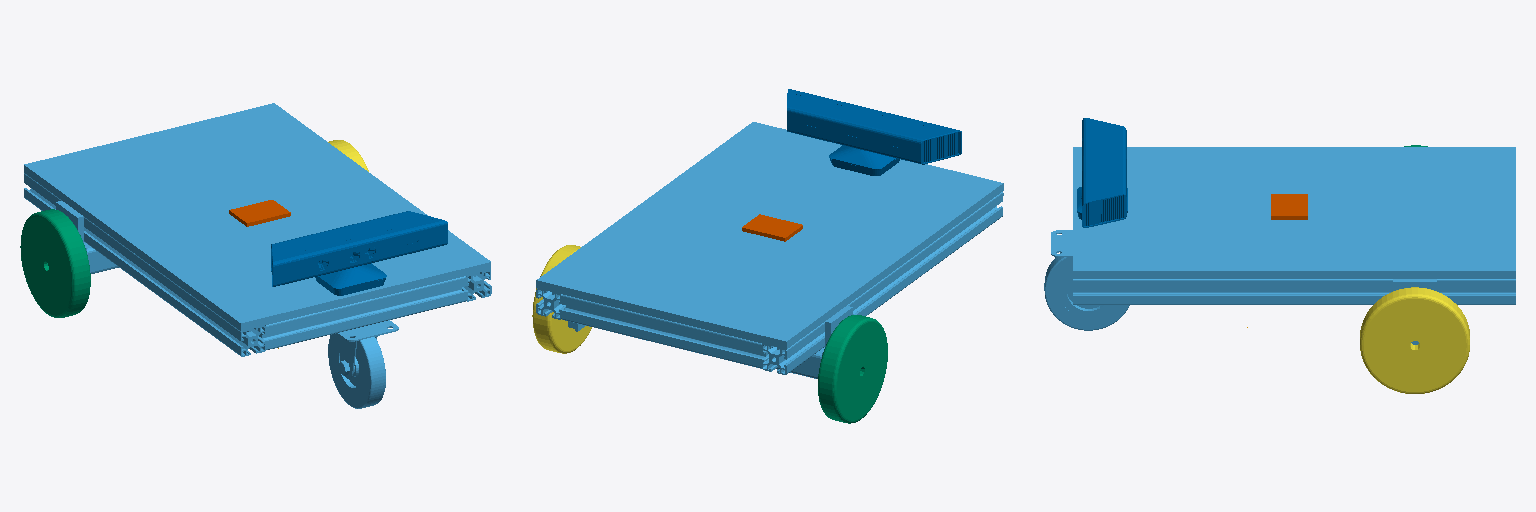
The robot description file, URDF, robot "mecanum_wheeled_robot":
<?xml version="1.0" ?>
<robot name="mecanum_wheeled_robot" >
  <!-- Wheels -->
  <!-- in kg-->
  <!-- Defining the colors used in this robot -->
  <material name="Black">
    <color rgba="0.0 0.0 0.0 1.0"/>
  </material>
  <material name="Red">
    <color rgba="0.8 0.0 0.0 1.0"/>
  </material>
  <material name="White">
    <color rgba="1.0 1.0 1.0 1.0"/>
  </material>
  <material name="Blue">
    <color rgba="0.0 0.0 0.8 1.0"/>
  </material>
  <material name="base">
   <texture filename="package://thedush_robots/texture/texture5.jpg"/>
  </material>
   <material name="Wheels1">
   <texture filename="package://thedush_robots/texture/texture6.jpg"/>
  </material>

  <material name="texture1">
   <texture filename="package://thedush_robots/texture/texture4.jpg"/>
  </material>
  <!-- PROPERTY LIST -->
  <!--All units in m-kg-s-radians unit system -->
  <!-- Main body radius and height -->
  <!-- Main Body Cylinder base   -->
  <!-- in kg-->
  <!-- caster wheel radius and height -->
  <!-- caster wheel mass -->
  <!-- in kg-->
  <!-- caster wheel radius and height -->
  <!-- caster wheel mass -->
  <!-- in kg-->
  <!-- Wheels -->
 
 
  <!-- in kg-->
  <!-- Hokuyo Laser scanner -->
  <!-- Macro for calculating inertia of cylinder -->
  <!-- BASE-FOOTPRINT -->
  <!-- base_footprint is a fictitious link(frame) that is on the ground right below base_link origin -->
  <link name="base_footprint">
    <inertial>
      <mass value="0.0001"/>
      <origin xyz="0 0 0"/>
      <inertia ixx="0.0001" ixy="0.0" ixz="0.0" iyy="0.0001" iyz="0.0" izz="0.0001"/>
    </inertial>
    <visual>
      <origin rpy="0 0 0" xyz="0 0 0"/>
      <geometry>
        <box size="0.001 0.001 0.001"/>
      </geometry>
    </visual>
  </link>
  <gazebo reference="base_footprint">
    <turnGravityOff>false</turnGravityOff>
  </gazebo>
  <joint name="base_footprint_joint" type="fixed">
    <origin rpy="0 0 0" xyz="0 0 0.145"/>
    <parent link="base_footprint"/>
    <child link="base_link"/>
  </joint>
  <!-- BASE-LINK -->
  <!--Actual body/chassis of the robot-->
  <link name="base_link">
    <inertial>
      <mass value="5"/>
      <origin xyz="0 0 0"/>
      <!--The 3x3 rotational inertia matrix. -->
      <inertia ixx="0.0282916666667" ixy="0" ixz="0" iyy="0.0282916666667" iyz="0" izz="0.05625"/>
    </inertial>
    <visual>
      <origin rpy="0 3.14 0" xyz="0.295 -0.3 0.5"/>
      <geometry>
       <mesh
          filename="package://thedush_robots/meshes/cleanbot/base.STL" />
      </geometry>
      <material name="base"/>
    </visual>
    <collision>
      <origin rpy="0 3.14 0" xyz="0.295 -0.3 0.6"/>
      <geometry>
        <mesh
          filename="package://thedush_robots/meshes/cleanbot/base.STL" />
      </geometry>
    </collision>
  </link>
  <gazebo reference="base_link">
    <material>Gazebo/White</material>
    <turnGravityOff>false</turnGravityOff>
  </gazebo>
  <!--fb : front, back ; lr: left, right -->
 



   <link name="back_right_wheel">
    <visual>
      <origin rpy="1.57079632679 0  1.57079632679 " xyz="-0.03 -0.075 -0.075"/>
      <geometry>
        <mesh
          filename="package://thedush_robots/meshes/cleanbot/wheel.STL"/>
      </geometry>
      <material name="Wheels1"/>
    </visual>
    <collision>
      <origin rpy="1.57079632679 0 1.57079632679 " xyz="0 0 0"/>
      <geometry>
        <mesh
          filename="package://thedush_robots/meshes/cleanbot/wheel.STL" />
      </geometry>
    </collision>
    <inertial>
      <mass value="2.5"/>
      <origin xyz="0 0 0"/>
      <inertia ixx="0.00108333333333" ixy="0" ixz="0" iyy="0.00108333333333" iyz="0" izz="0.002"/>
    </inertial>
  </link>



 <gazebo reference="back_right_wheel">
    <mu1 value="1.0"/>
    <mu2 value="1.0"/>
    <kp value="10000000.0"/>
    <kd value="1.0"/>
    <fdir1 value="1 0 0"/>
    <material>Gazebo/Grey</material>
    <turnGravityOff>false</turnGravityOff>
  </gazebo>


  <joint name="back_right_wheel_joint" type="continuous">
    <parent link="base_link"/>
    <child link="back_right_wheel"/>
    <origin rpy="0 0 0" xyz="-0.208083610535 0.228523135185 -0.056"/>
    <axis rpy="0  0" xyz="1 0 0"/>
    <limit effort="100" velocity="100"/>
    <joint_properties damping="0.0" friction="0.0"/>
  </joint>

  <!-- Transmission is important to link the joints and the controller -->
 

 <transmission name="back_right_wheel_joint_trans">
    <type>transmission_interface/SimpleTransmission</type>
    <joint name="back_right_wheel_joint"/>
    <actuator name="back_right_wheel_joint_motor">
      <hardwareInterface>EffortJointInterface</hardwareInterface>
      <mechanicalReduction>1</mechanicalReduction>
    </actuator>
  </transmission>


  <!--fb : front, back ; lr: left, right -->
  

   <link name="back_left_wheel">
    <visual>
      <origin rpy="1.57079632679 0  -1.57079632679 " xyz="0 0.075 -0.075"/>
      <geometry>
        <mesh
          filename="package://thedush_robots/meshes/cleanbot/wheel.STL" />
      </geometry>
      <material name="Wheels1"/>
    </visual>
    <collision>
      <origin rpy="1.57079632679 0 -1.57079632679 " xyz="0 0 0"/>
      <geometry>
        <mesh
          filename="package://thedush_robots/meshes/cleanbot/wheel.STL" />
      </geometry>
    </collision>
    <inertial>
      <mass value="2.5"/>
      <origin xyz="0 0 0"/>
      <inertia ixx="0.00108333333333" ixy="0" ixz="0" iyy="0.00108333333333" iyz="0" izz="0.002"/>
    </inertial>
  </link>



  <gazebo reference="back_left_wheel">
    <mu1 value="1.0"/>
    <mu2 value="1.0"/>
    <kp value="10000000.0"/>
    <kd value="1.0"/>
    <fdir1 value="1 0 0"/>
    <material>Gazebo/Grey</material>
    <turnGravityOff>false</turnGravityOff>
  </gazebo>


  <joint name="back_left_wheel_joint" type="continuous">
    <parent link="base_link"/>
    <child link="back_left_wheel"/>
    <origin rpy="0 0 0" xyz="0.248192135692 0.227883039474 -0.056"/>
    <axis rpy="0  0" xyz="1 0 0"/>
    <limit effort="100" velocity="100"/>
    <joint_properties damping="0.0" friction="0.0"/>
  </joint>

  <!-- Transmission is important to link the joints and the controller -->


    <transmission name="back_left_wheel_joint_trans">
    <type>transmission_interface/SimpleTransmission</type>
    <joint name="back_left_wheel_joint"/>
    <actuator name="back_left_wheel_joint_motor">
      <hardwareInterface>EffortJointInterface</hardwareInterface>
      <mechanicalReduction>1</mechanicalReduction>
    </actuator>
  </transmission>

  
 


 
  <link name="kinect_link">
    <visual>
      <origin rpy="1.57 0 0" xyz="-0.14 0.035 -0.05"/>
      <geometry>
        <mesh
          filename="package://thedush_robots/meshes/cleanbot/kinect.STL"/>
    
       <!--  <box size="0.05 0.05 0.05"/> -->
      </geometry>
      <material name="Grey"/>
    </visual>
  </link>
  <joint name="kinect_joint" type="fixed">
    <origin rpy="0 0 0" xyz="0.00128984451294 -0.19538221359 0.084095378876"/>
    <parent link="base_link"/>
    <child link="kinect_link"/>
  </joint>

<link name="imu_link">
    <visual>
      <origin rpy="0 0 -1.57079632679" xyz="0 0 0"/>
      <geometry>
        
         <box size="0.05 0.07 0.01"/> 
      </geometry>
      <material name="texture1"/>
    </visual>
  </link>
  <joint name="imu_joint" type="fixed">
    <origin rpy="0 0 3.14" xyz="0.00416427850723 0.0573545172811 0.035139584541"/>
    <parent link="base_link"/>
    <child link="imu_link"/>
  </joint>

  <gazebo reference="kinect_link">
    <material>Gazebo/Grey</material>
    <turnGravityOff>false</turnGravityOff>
    <sensor name="head_hokuyo_sensor" type="ray">
      <pose>0.025 0 0 0 0 0</pose>
      <visualize>false</visualize>
      <update_rate>40</update_rate>
      <ray>
        <scan>
          <horizontal>
            <samples>720</samples>
            <resolution>1</resolution>
            <min_angle>0</min_angle>
            <max_angle>-3.14570796</max_angle>
          </horizontal>
        </scan>
        <range>
          <min>0.10</min>
          <max>10.0</max>
          <resolution>0.001</resolution>
        </range>
      </ray>
      <plugin filename="libgazebo_ros_laser.so" name="gazebo_ros_head_hokuyo_controller">
        <topicName>/scan</topicName>
        <frameName>kinect_link</frameName>
      </plugin>
    </sensor>
  </gazebo>
<gazebo>
<!-- <plugin name="skid_steer_drive_controller" filename="libgazebo_ros_skid_steer_drive.so">
     
        <updateRate>100.0</updateRate>
        <leftFrontJoint>front_left_wheel_joint</leftFrontJoint>  
        <rightFrontJoint>front_right_wheel_joint</rightFrontJoint>
        <leftRearJoint>back_left_wheel_joint</leftRearJoint>
        <rightRearJoint>back_right_wheel_joint</rightRearJoint>
        <wheelSeparation>0.26</wheelSeparation> 
        
        <wheelDiameter>0.234</wheelDiameter>
        <robotBaseFrame>base_footprint</robotBaseFrame>
        <torque>20</torque>
        <commandTopic>cmd_vel</commandTopic>
        <odometryTopic>odom</odometryTopic>
        <odometryFrame>odom</odometryFrame>
        <broadcastTF>1</broadcastTF>
      </plugin> -->
   </gazebo>
   <gazebo reference="imu_link">
    <material>Gazebo/Orange</material>
  </gazebo>
   <gazebo>
    <plugin name="imu_plugin" filename="libgazebo_ros_imu.so">
      <alwaysOn>true</alwaysOn>
      <bodyName>imu_link</bodyName>
      <topicName>imu</topicName>
      <serviceName>imu_service</serviceName>
      <gaussianNoise>0.0</gaussianNoise>
      <updateRate>20.0</updateRate>
    </plugin>
  </gazebo>
  
</robot>

--- Facts derived from the render (not from the file) ---
The picture shows the robot from 3 angles, left to right: view 1: azimuth 30°, elevation 25°; view 2: azimuth 150°, elevation 25°; view 3: azimuth 270°, elevation 25°; orthographic projection.
Robot: mecanum_wheeled_robot — 6 links, 5 joints (2 continuous, 3 fixed); root link base_footprint; default pose: every joint at zero.
Links seen in each view (by area): view 1: base_link, kinect_link, back_right_wheel, imu_link; view 2: base_link, kinect_link, back_right_wheel, back_left_wheel, imu_link; view 3: base_link, back_left_wheel, kinect_link, imu_link.
Boxes of the visible links, x1=… form: base_link: x1=24, y1=103, x2=491, y2=408; kinect_link: x1=271, y1=211, x2=447, y2=295; back_right_wheel: x1=20, y1=209, x2=90, y2=317; imu_link: x1=229, y1=200, x2=290, y2=226; base_link: x1=536, y1=122, x2=1003, y2=378; kinect_link: x1=787, y1=89, x2=961, y2=175; back_right_wheel: x1=818, y1=315, x2=887, y2=423; back_left_wheel: x1=532, y1=245, x2=591, y2=353; imu_link: x1=742, y1=214, x2=802, y2=241; base_link: x1=1044, y1=147, x2=1515, y2=344; back_left_wheel: x1=1360, y1=287, x2=1469, y2=393; kinect_link: x1=1077, y1=118, x2=1127, y2=227; imu_link: x1=1271, y1=194, x2=1307, y2=219.
Bounding box of the posed robot: 0.4863 × 0.6393 × 0.2523 m (x, y, z).
4 mesh visuals loaded from 3 distinct referenced files (3 binary STL).
